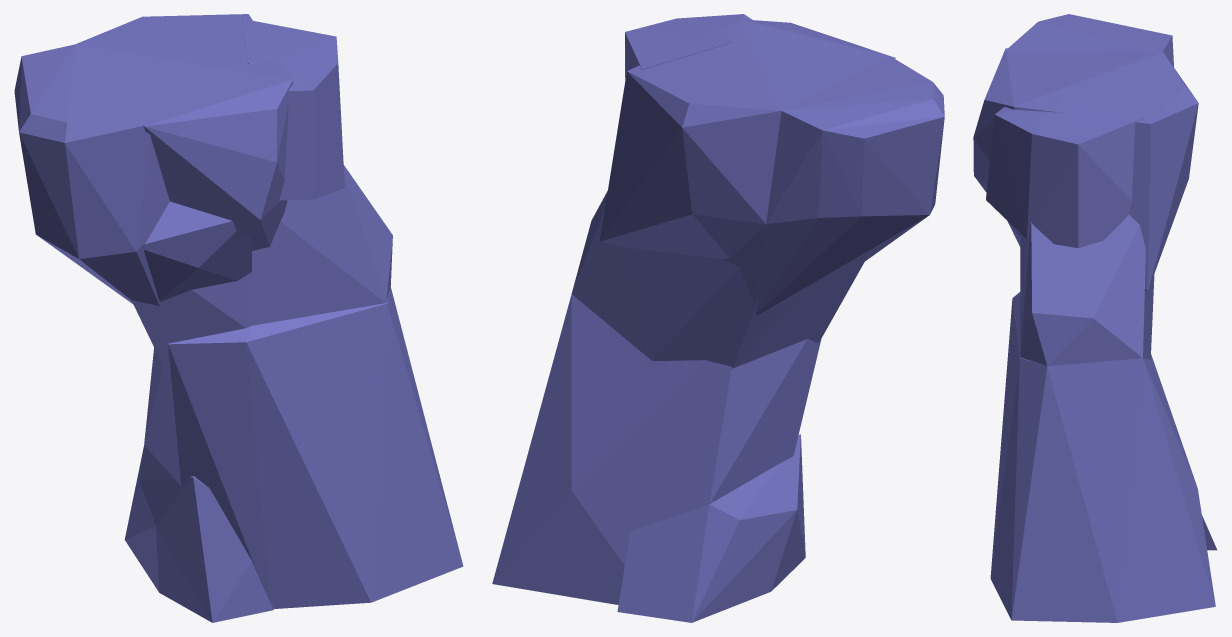
The model's file is Cliff_Sediment_04_Arch_Collider_01.FBX.
3 renders of one model, left to right at view 1: azimuth 30°, elevation 25°; view 2: azimuth 150°, elevation 25°; view 3: azimuth 270°, elevation 25°, orthographic. The views are drawn at different scales.
Parts seen in each view (by area): view 1: COLLIDER4, COLLIDER1, COLLIDER3, COLLIDER6, COLLIDER5, COLLIDER2, COLLIDER7; view 2: COLLIDER4, COLLIDER1, COLLIDER3, COLLIDER6, COLLIDER5, COLLIDER2; view 3: COLLIDER4, COLLIDER1, COLLIDER2, COLLIDER6, COLLIDER3.
Part boxes in pixels (bbox=[...]): COLLIDER4: bbox=[144, 287, 463, 608]; COLLIDER1: bbox=[75, 14, 292, 250]; COLLIDER3: bbox=[14, 44, 169, 305]; COLLIDER6: bbox=[131, 165, 392, 380]; COLLIDER5: bbox=[124, 445, 273, 622]; COLLIDER2: bbox=[242, 18, 344, 200]; COLLIDER7: bbox=[143, 201, 251, 301]; COLLIDER4: bbox=[492, 294, 821, 604]; COLLIDER1: bbox=[599, 19, 895, 258]; COLLIDER3: bbox=[721, 55, 944, 315]; COLLIDER6: bbox=[571, 191, 864, 368]; COLLIDER5: bbox=[617, 434, 805, 622]; COLLIDER2: bbox=[625, 14, 752, 79]; COLLIDER4: bbox=[990, 292, 1215, 622]; COLLIDER1: bbox=[973, 48, 1198, 291]; COLLIDER2: bbox=[986, 99, 1143, 248]; COLLIDER6: bbox=[1020, 215, 1154, 365]; COLLIDER3: bbox=[1005, 14, 1173, 66].
Bounding box in the file's own units: 387 × 482 × 236.
